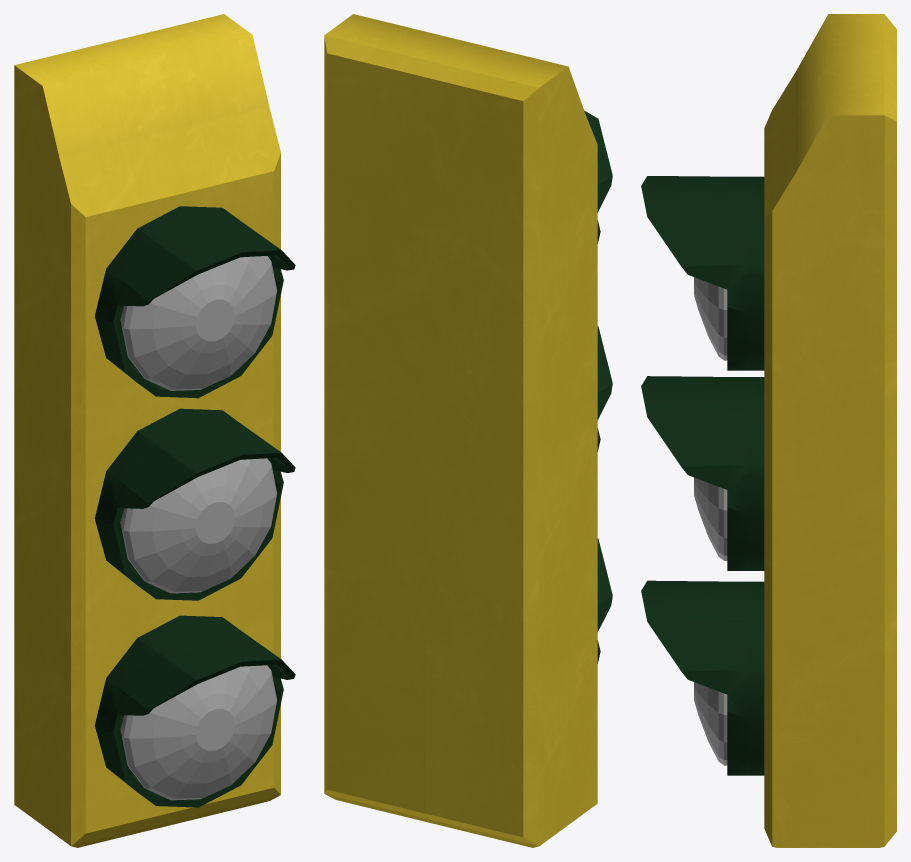
Rendered from traffic light test.fbx.
3 views of the same model, side by side, from view 1: azimuth 30°, elevation 25°; view 2: azimuth 150°, elevation 25°; view 3: azimuth 270°, elevation 25° (orthographic). The views are drawn at different scales.
Parts seen in each view (by area): view 1: baseboard, green_light, red_light, amber_light, amber_light_frame, green_light_frame, red_light_frame; view 2: baseboard, red_light_frame, amber_light_frame, green_light_frame; view 3: baseboard, red_light_frame, green_light_frame, amber_light_frame, red_light, amber_light, green_light.
Boxes of the visible parts, x1,y1,x2,y2 form: baseboard: (14, 14, 280, 847); green_light: (120, 665, 277, 800); red_light: (120, 256, 277, 390); amber_light: (120, 458, 277, 593); amber_light_frame: (94, 408, 295, 600); green_light_frame: (94, 615, 295, 807); red_light_frame: (95, 206, 295, 398); baseboard: (324, 14, 597, 847); red_light_frame: (584, 110, 612, 243); amber_light_frame: (597, 326, 612, 451); green_light_frame: (597, 538, 612, 663); baseboard: (764, 14, 896, 847); red_light_frame: (641, 176, 764, 370); green_light_frame: (641, 580, 764, 775); amber_light_frame: (641, 376, 764, 570); red_light: (694, 277, 727, 360); amber_light: (694, 477, 727, 560); green_light: (694, 682, 727, 765).
Bounding box in the file's own units: 1.1 × 3.73 × 1.17.
3 materials, 2 textured.
